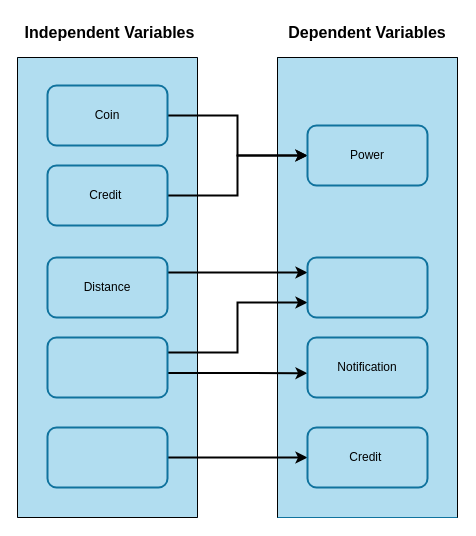
The diagram is 476 pixels wide and 536 high, and some of its shapes have lost their labels. Here are the shapes that lost their labels. From the top down, the centre of each, then its label:
the point at 367,287: Location
the point at 107,367: Signal
the point at 107,457: Unused Power
